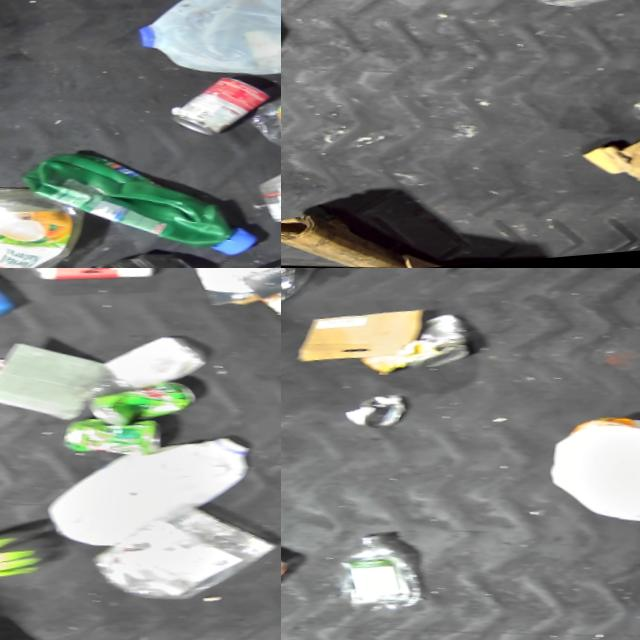can: (169, 73, 279, 152), (87, 375, 206, 442), (61, 413, 176, 472), (413, 310, 480, 377), (348, 391, 410, 435)
milk_jug: (46, 425, 263, 570), (128, 0, 281, 99), (539, 408, 640, 546)
non_white_jug: (7, 135, 281, 268), (0, 176, 99, 268)
plastic_bottle: (335, 526, 440, 619), (242, 69, 281, 169)
